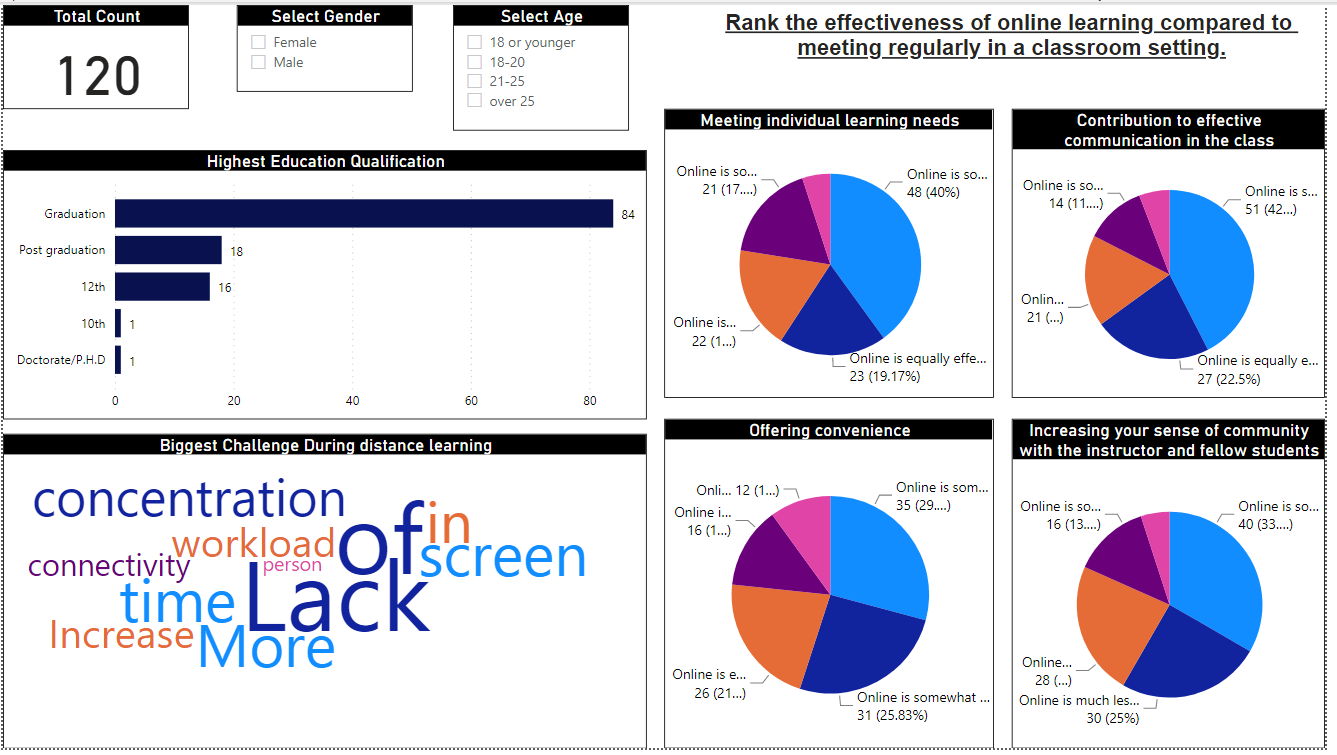

This screenshot's page, from the dashboard's own definition file:
{"tool":"powerbi","page":{"name":"Online Learning","canvas":[1280,720],"ordinal":1},"visuals":[{"type":"card","title":"Total Count","fields":{"Values":["CountNonNull(Return To Education Institutes.Random number)"]},"box":[0,0,180.4,101],"z":0},{"type":"slicer","title":"Select Gender","fields":{"Values":["Return To Education Institutes.Gender"]},"box":[226.5,0,170.3,83.7],"z":1000},{"type":"slicer","title":"Select Age","fields":{"Values":["Return To Education Institutes.Age"]},"box":[435.8,0,170.3,121.2],"z":2000},{"type":"clusteredBarChart","title":"Highest Education Qualification","fields":{"Category":["Return To Education Institutes.Highest education"],"Y":["CountNonNull(Return To Education Institutes.Random number)"]},"box":[0,140,623.3,261.2],"z":3000},{"type":"WordCloud1447959067750","title":"Biggest Challenge During distance learning","fields":{"Category":["Return To Education Institutes.Biggest challenged during distance learning"],"Values":["CountNonNull(Return To Education Institutes.Random number)"]},"box":[0,415.6,623.3,304.4],"z":4000},{"type":"pieChart","title":"Contribution to effective communication in the class","fields":{"Category":["Return To Education Institutes.Rank the effectiveness(or what you think the effectiveness might be if you have not taken"],"Y":["CountNonNull(Return To Education Institutes.Random number)"]},"box":[976.8,101,303,279.9],"z":5000},{"type":"textbox","box":[672.4,0,607.5,72.1],"z":6000},{"type":"pieChart","title":"Increasing your sense of community with the instructor and fellow students","fields":{"Y":["CountNonNull(Return To Education Institutes.Random number)"],"Category":["Return To Education Institutes.Rank the effectiveness(or what you think the effectiveness might be if you have not taken"]},"box":[976.8,401.1,303,318.9],"z":7000},{"type":"pieChart","title":"Meeting individual learning needs","fields":{"Y":["CountNonNull(Return To Education Institutes.Random number)"],"Category":["Return To Education Institutes.Rank the effectiveness(or what you think the effectiveness might be if you have not taken"]},"box":[640.6,101,318.9,279.9],"z":8000},{"type":"pieChart","title":"Offering convenience","fields":{"Y":["CountNonNull(Return To Education Institutes.Random number)"],"Category":["Return To Education Institutes.Rank the effectiveness(or what you think the effectiveness might be if you have not taken"]},"box":[640.6,401.1,318.9,318.9],"z":9000}]}

Visuals, with their boxes in screenshot pixels (x1, y1, x2, y2), scaled from the page's 1280x720 canvas onto the 1337x755 screenshot:
"Total Count" card: x1=0, y1=0, x2=188, y2=106
"Select Gender" slicer: x1=237, y1=0, x2=414, y2=88
"Select Age" slicer: x1=455, y1=0, x2=633, y2=127
"Highest Education Qualification" clusteredBarChart: x1=0, y1=147, x2=651, y2=421
"Biggest Challenge During distance learning" WordCloud1447959067750: x1=0, y1=436, x2=651, y2=754
"Contribution to effective communication in the class" pieChart: x1=1020, y1=106, x2=1336, y2=399
textbox: x1=702, y1=0, x2=1336, y2=76
"Increasing your sense of community with the instructor and fellow students" pieChart: x1=1020, y1=421, x2=1336, y2=754
"Meeting individual learning needs" pieChart: x1=669, y1=106, x2=1002, y2=399
"Offering convenience" pieChart: x1=669, y1=421, x2=1002, y2=754
